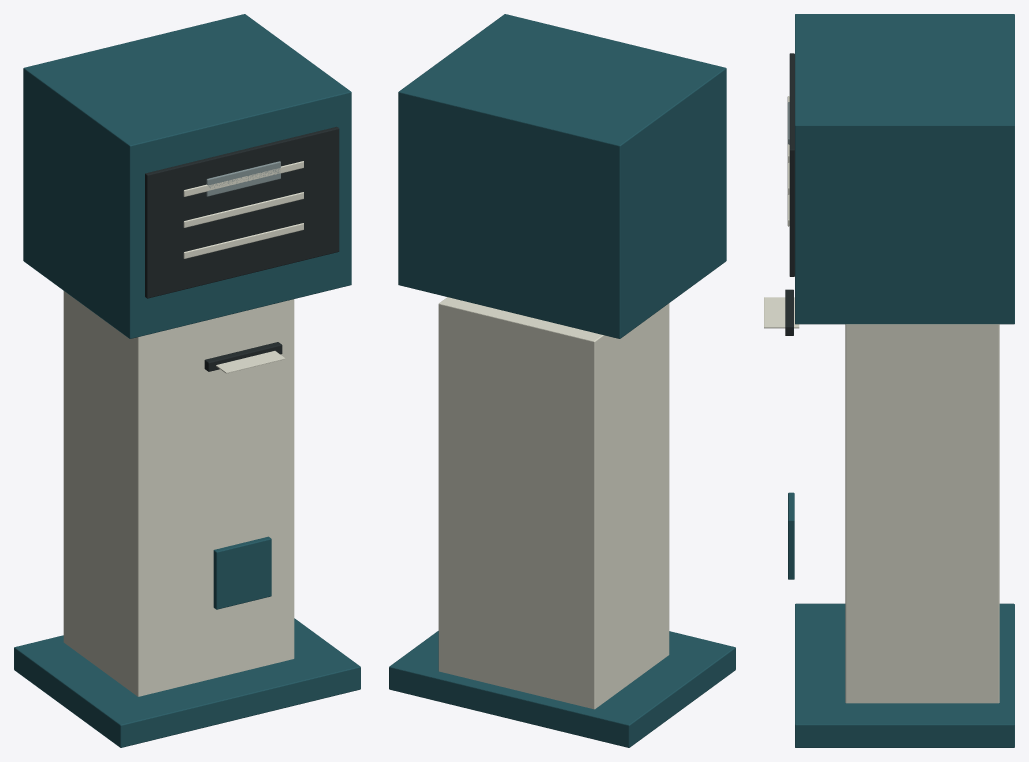
Rendered from public-service-queue-kiosk.glb.
3 renders of one model, left to right at view 1: azimuth 30°, elevation 25°; view 2: azimuth 150°, elevation 25°; view 3: azimuth 270°, elevation 25°, orthographic. The views are drawn at different scales.
Parts seen in each view (by area): view 1: Pedestal, Head, Display, Foot, Wheelchair_Clearance_Marker, Speaker, Interface_Line.002, Interface_Line.001, Interface_Line, Ticket_Slot, Paper; view 2: Head, Pedestal, Foot; view 3: Head, Pedestal, Foot, Display, Paper, Wheelchair_Clearance_Marker.
Part boxes in pixels (left/top/right/bottom): Pedestal: left=63, top=291, right=294, bottom=696; Head: left=23, top=14, right=351, bottom=338; Display: left=145, top=126, right=339, bottom=298; Foot: left=14, top=618, right=360, bottom=747; Wheelchair_Clearance_Marker: left=213, top=536, right=271, bottom=609; Speaker: left=206, top=161, right=280, bottom=196; Interface_Line.002: left=183, top=223, right=303, bottom=258; Interface_Line.001: left=183, top=192, right=303, bottom=227; Interface_Line: left=183, top=161, right=303, bottom=196; Ticket_Slot: left=204, top=342, right=282, bottom=371; Paper: left=216, top=351, right=285, bottom=373; Head: left=398, top=14, right=726, bottom=338; Pedestal: left=438, top=297, right=669, bottom=709; Foot: left=389, top=631, right=735, bottom=747; Head: left=795, top=14, right=1014, bottom=324; Pedestal: left=845, top=324, right=999, bottom=703; Foot: left=795, top=603, right=1014, bottom=747; Display: left=789, top=53, right=794, bottom=276; Paper: left=764, top=297, right=799, bottom=328; Wheelchair_Clearance_Marker: left=788, top=492, right=794, bottom=579.
Bounding box in the file's own units: 0.65 × 1.55 × 0.57.
